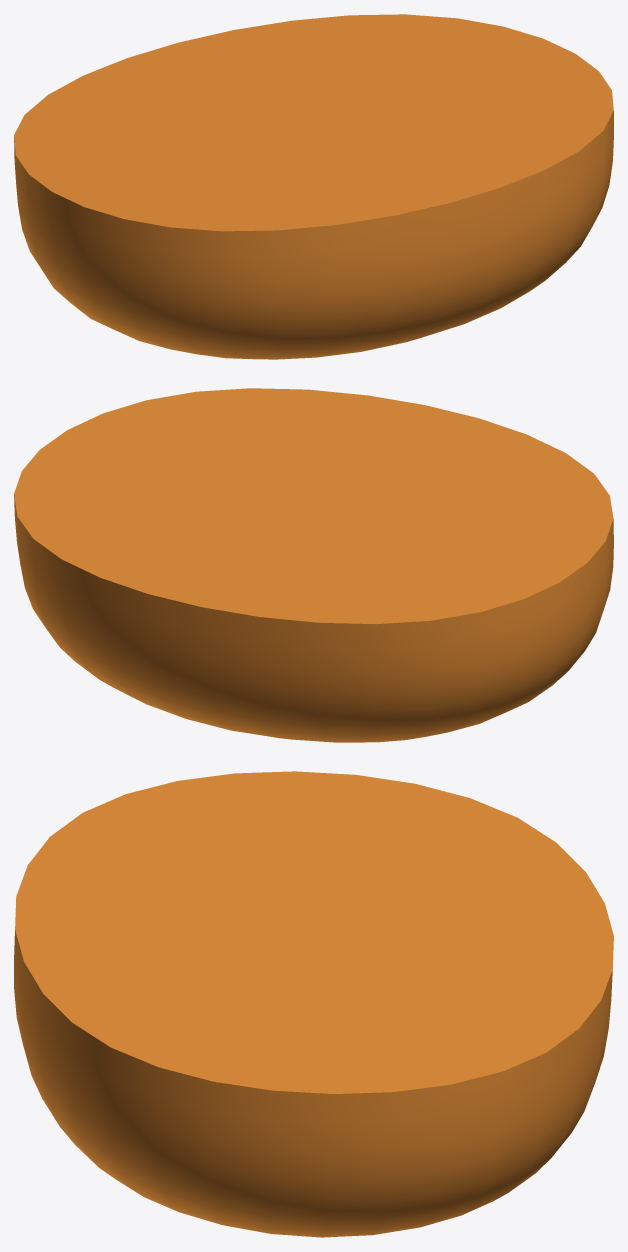
The model's file is PanDeAbajoMedina.glb.
The picture shows the model from 3 angles, top to bottom: view 1: azimuth 30°, elevation 25°; view 2: azimuth 150°, elevation 25°; view 3: azimuth 270°, elevation 25°; orthographic projection. The views are drawn at different scales.
Visible parts, largest first — view 1: Cube.001; view 2: Cube.001; view 3: Cube.001.
Part boxes in pixels (x1=…): Cube.001: x1=14, y1=14, x2=613, y2=359; Cube.001: x1=14, y1=388, x2=613, y2=742; Cube.001: x1=14, y1=771, x2=613, y2=1237.
Bounding box in the file's own units: 2.29 × 0.7918 × 1.83.
